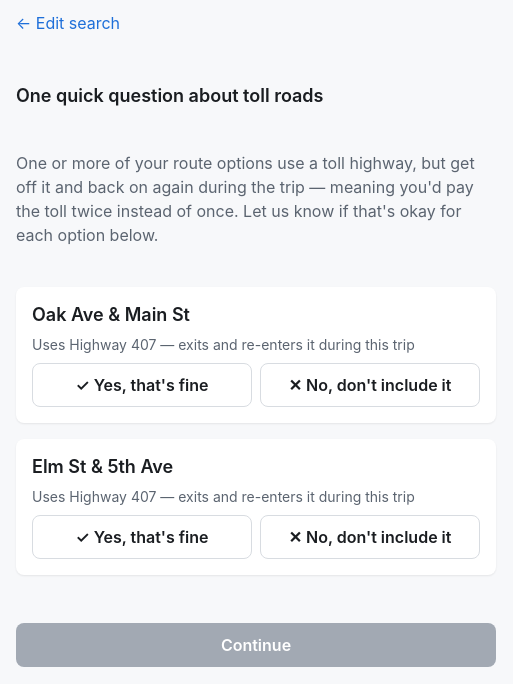
Test: TollRoadCheckScreen -- ux-spec.md section 5a (FR-019, INC-14) › Continue is disabled until every card has an explicit answer
Check: the button "Continue" is disabled, box x1=16 y1=623 x2=496 y2=667
Click the button "✓ Yes, that's fine" below "Oak Ave & Main St": click(142, 385) x1=32 y1=363 x2=252 y2=407
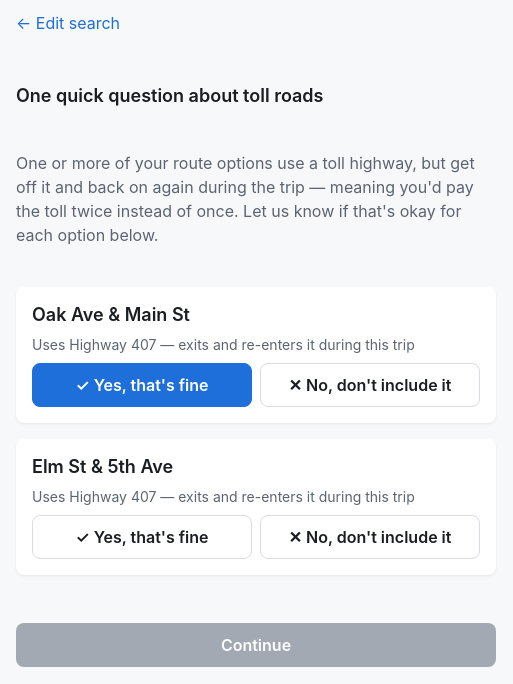
Check: the button "Continue" is disabled, box x1=16 y1=623 x2=496 y2=667
Click the button "✓ Yes, that's fine" below "Elm St & 5th Ave": click(142, 537) x1=32 y1=515 x2=252 y2=559
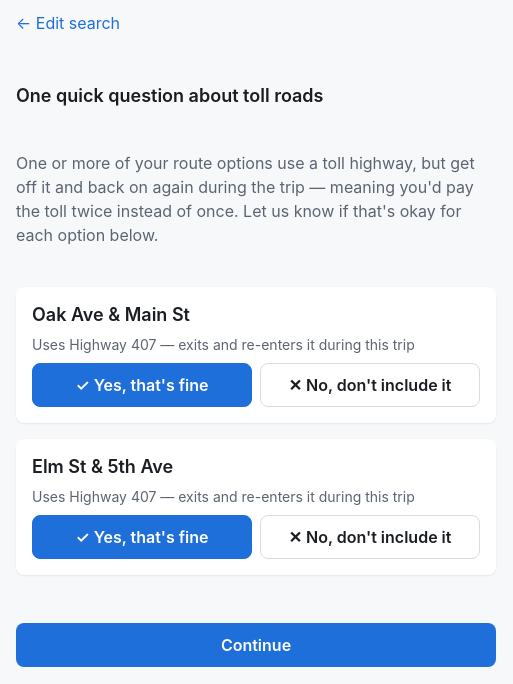
Check: the button "Continue" is enabled, box x1=16 y1=623 x2=496 y2=667
